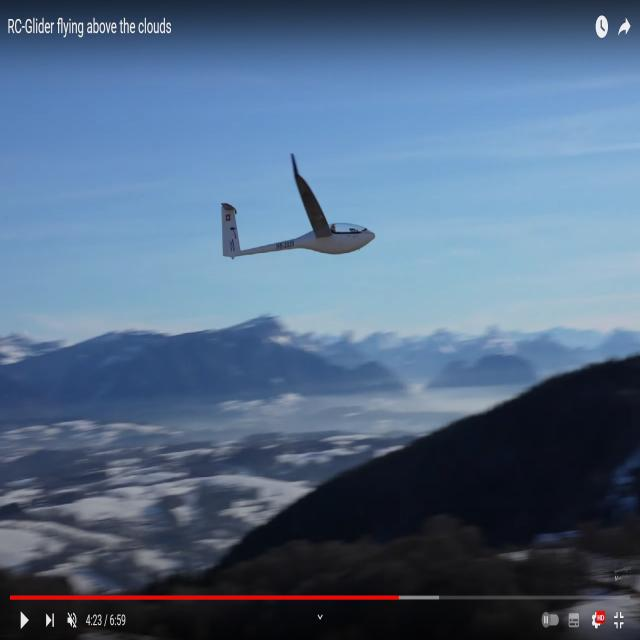iha: (223, 189, 375, 232)
